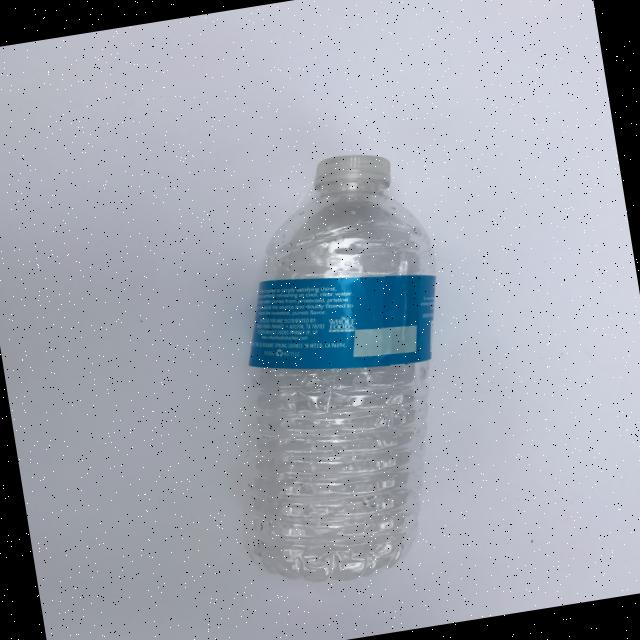plastic: (186, 142, 484, 596)
